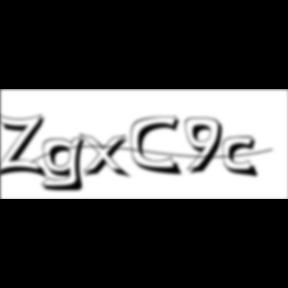9: (184, 117, 230, 177)
C: (131, 115, 186, 178)
Z: (0, 112, 50, 181)
c: (223, 136, 263, 180)
g: (41, 134, 93, 194)
x: (80, 132, 134, 181)
